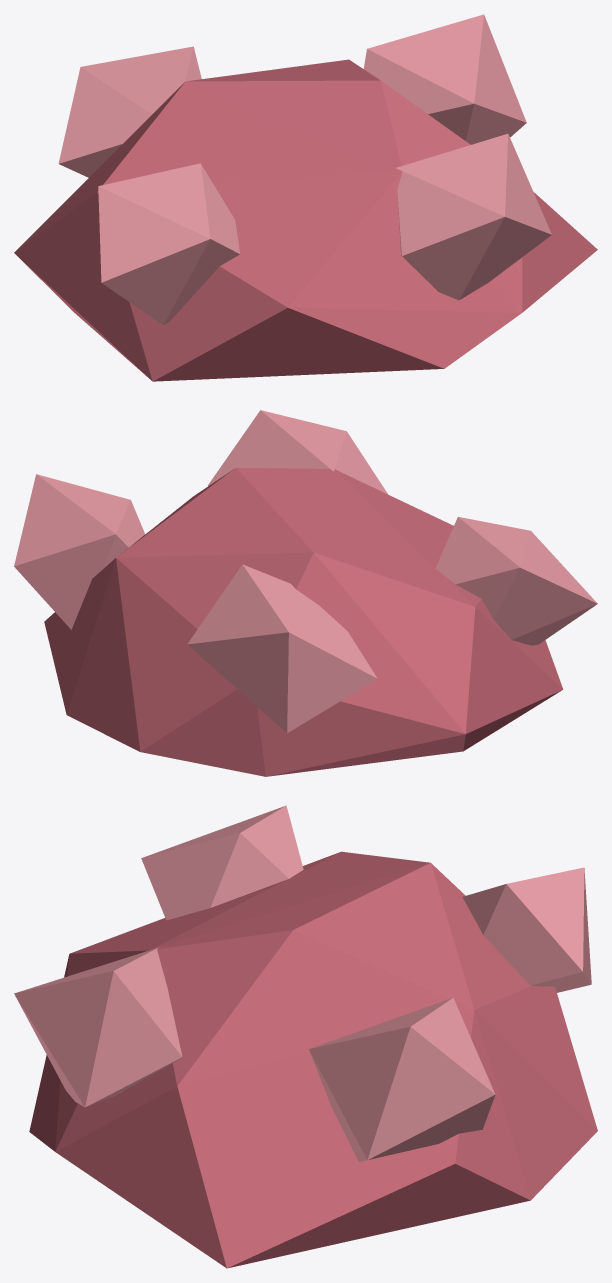
The model's file is objet_tissu_vivant.glb.
3 views of the same model, one above another, from view 1: azimuth 30°, elevation 25°; view 2: azimuth 150°, elevation 25°; view 3: azimuth 270°, elevation 25° (orthographic). The views are drawn at different scales.
Visible parts, largest first — view 1: tissu_vivant_chair.002, tissu_vivant_chair_claire.002; view 2: tissu_vivant_chair.002, tissu_vivant_chair_claire.002; view 3: tissu_vivant_chair.002, tissu_vivant_chair_claire.002.
Part boxes in pixels (box(x1,y1,x2,y2)): tissu_vivant_chair.002: box(14, 59, 597, 381); tissu_vivant_chair_claire.002: box(58, 14, 551, 325); tissu_vivant_chair.002: box(44, 467, 563, 776); tissu_vivant_chair_claire.002: box(14, 410, 597, 733); tissu_vivant_chair.002: box(29, 851, 597, 1268); tissu_vivant_chair_claire.002: box(14, 805, 591, 1161).
Size of the model in its own units: 0.1891 by 0.0687 by 0.1582.
